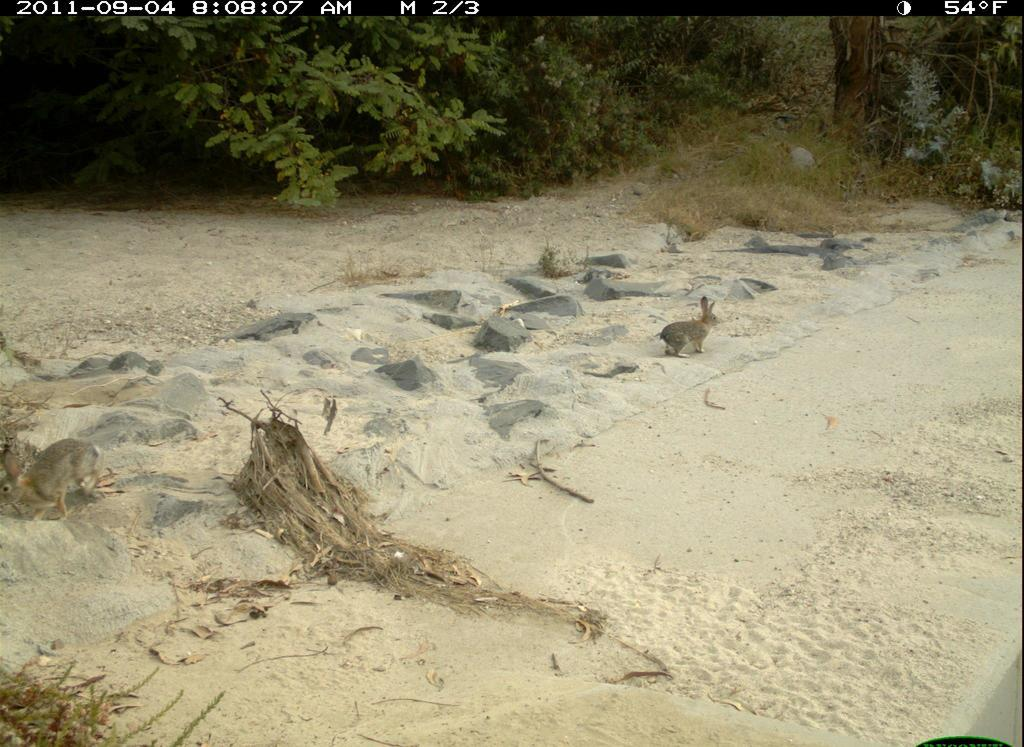rabbit: (660, 292, 724, 363)
